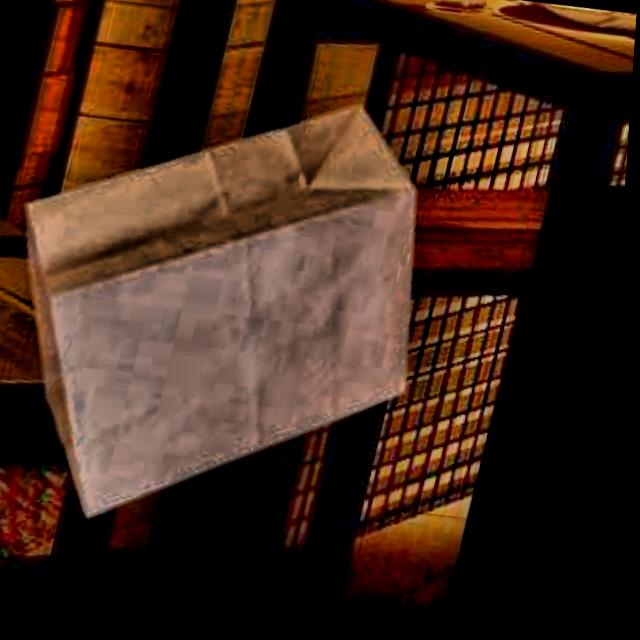Paper-bag: (0, 46, 483, 586)
